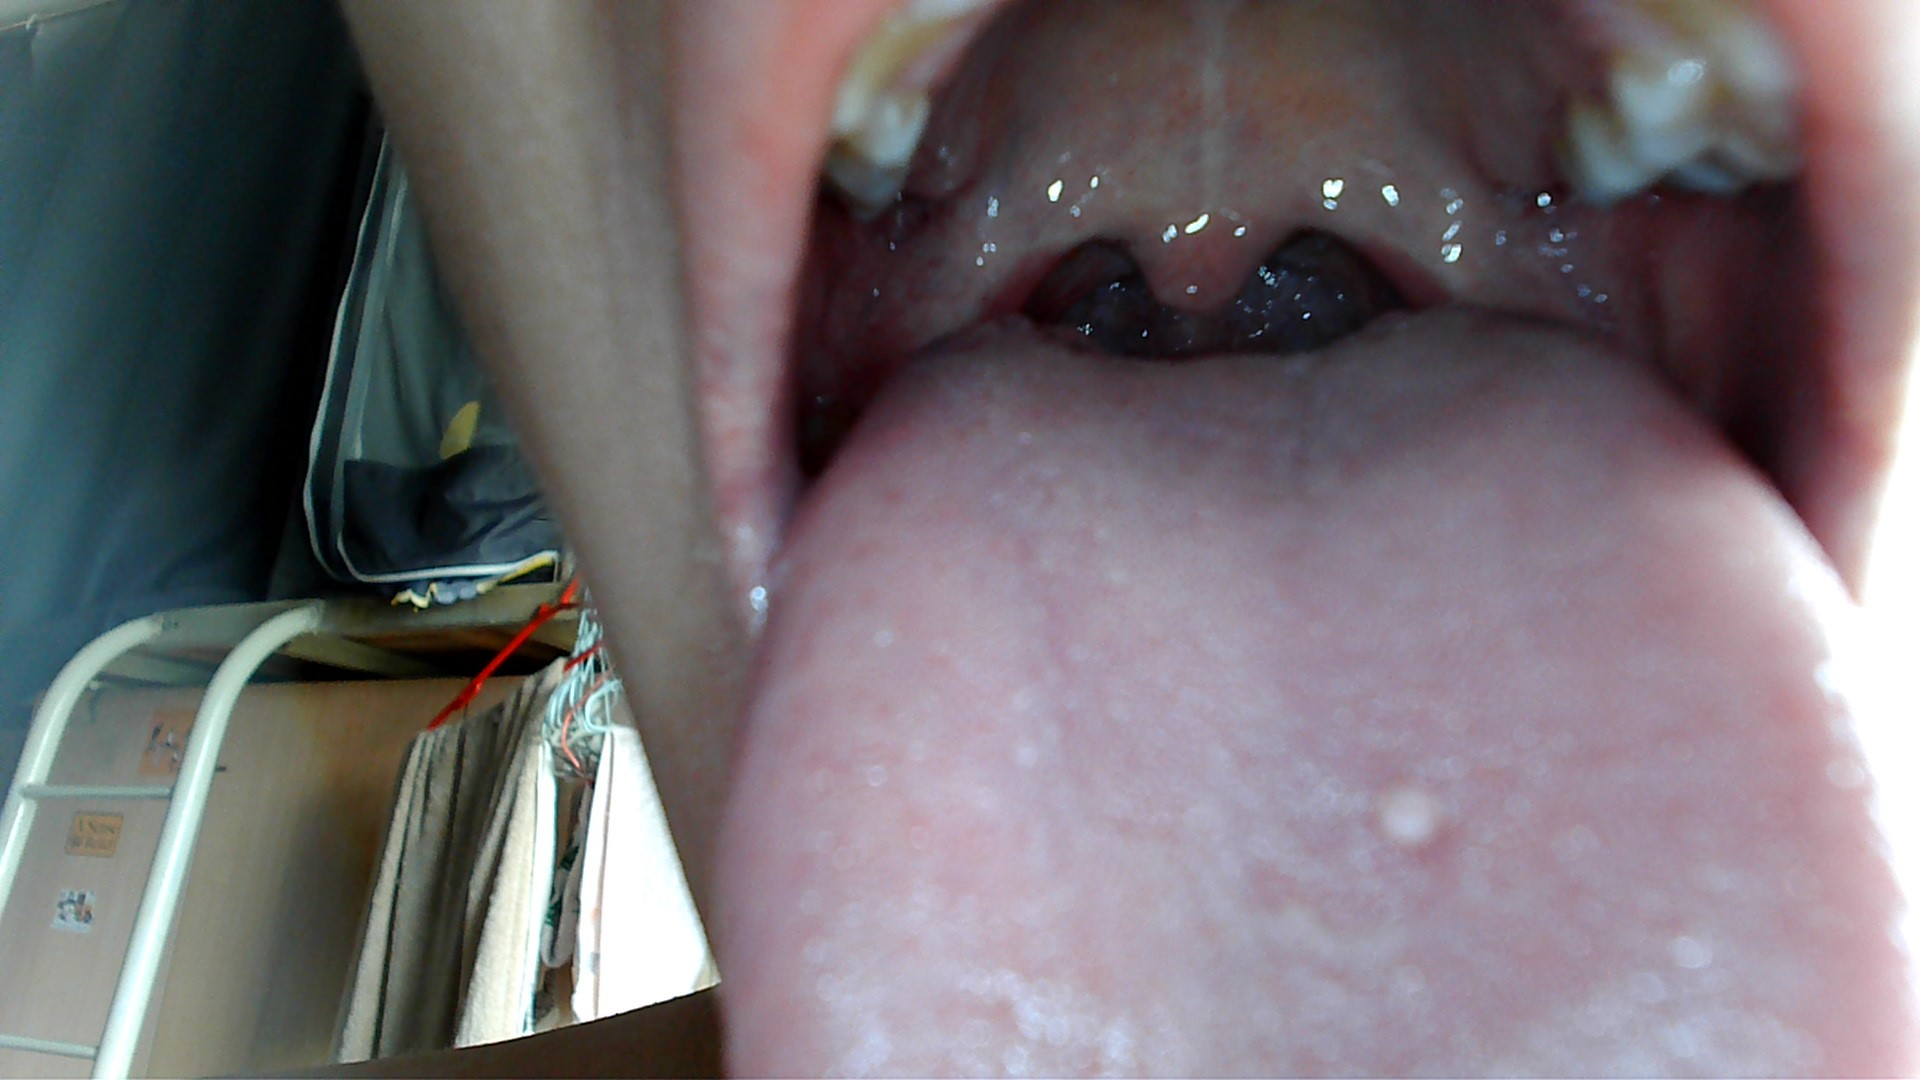throat: (1362, 212, 1526, 313), (902, 228, 1062, 320)
